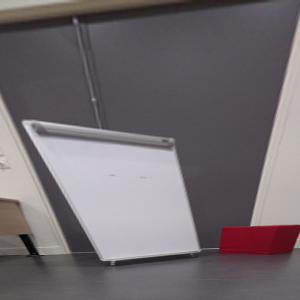big: (23, 119, 202, 261)
medium: (220, 224, 296, 255)
